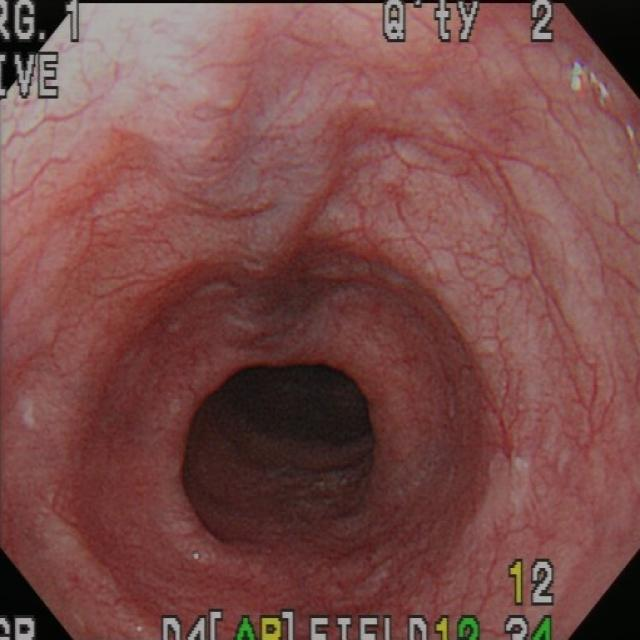A: (126, 50, 347, 303)
E: (179, 356, 378, 550)
J: (507, 450, 535, 521), (19, 397, 39, 434)
S: (160, 608, 483, 640), (383, 3, 558, 45), (3, 3, 83, 45), (3, 50, 63, 101), (507, 558, 556, 608), (506, 614, 556, 640), (2, 614, 39, 640)
U: (568, 59, 615, 107)
